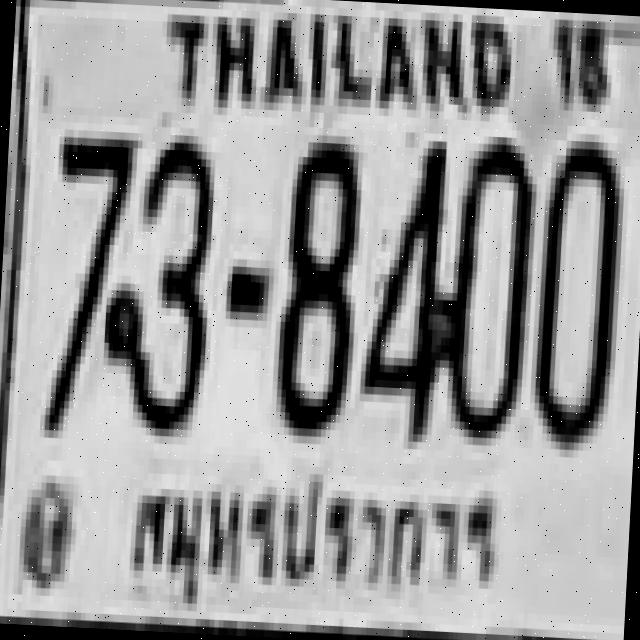0: (528, 133, 622, 444), (441, 131, 535, 436)
3: (108, 132, 215, 430)
4: (358, 130, 452, 436)
7: (40, 128, 134, 434)
8: (270, 134, 360, 430)
SamutPrakan: (112, 458, 510, 630)
